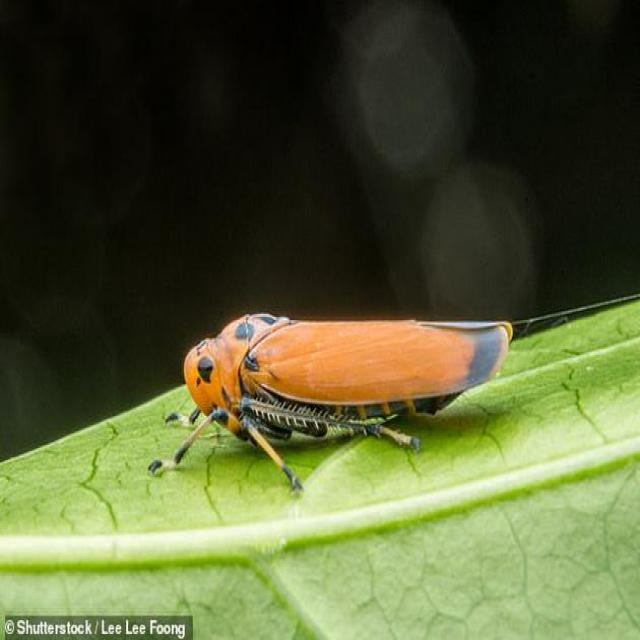Yechan: (150, 302, 520, 509)
